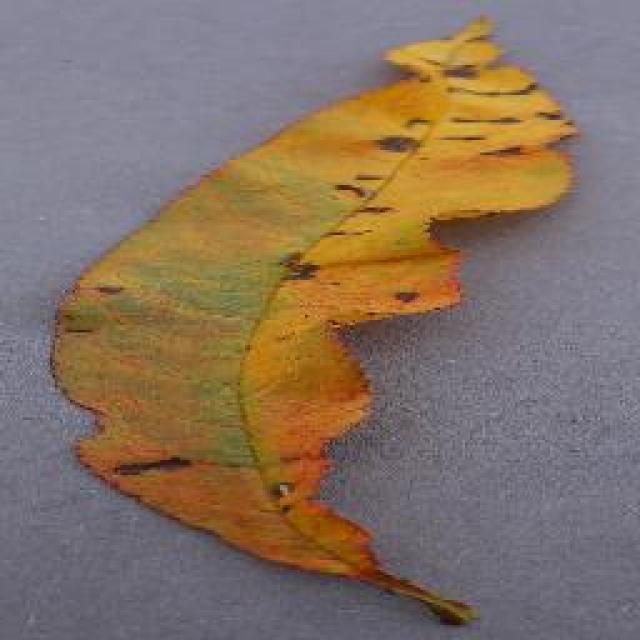Peach_Bacterial_Spot: (215, 88, 550, 352)
